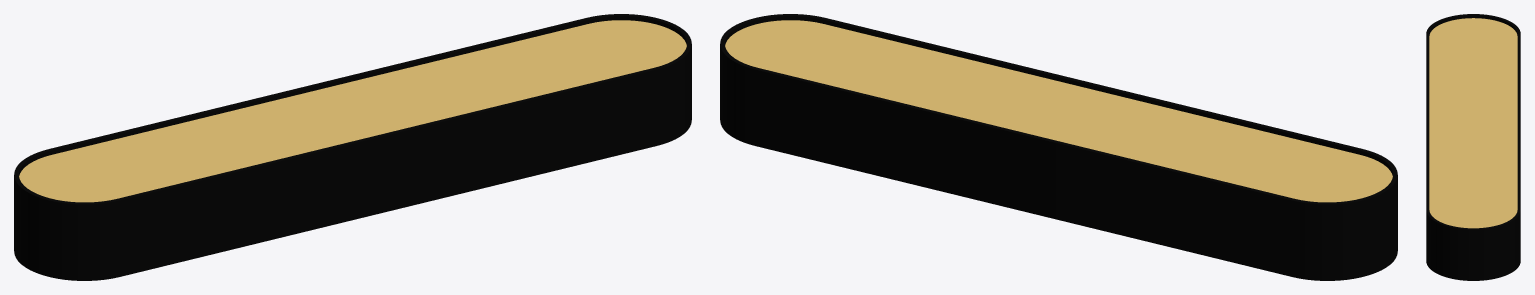
3 views of the same model, side by side, from view 1: azimuth 30°, elevation 25°; view 2: azimuth 150°, elevation 25°; view 3: azimuth 270°, elevation 25° (orthographic). The views are drawn at different scales.
Visible parts, largest first — view 1: body, gold_top; view 2: body, gold_top; view 3: gold_top, body.
Part boxes in pixels (box(x1,y1,x2,y2)): body: box(14, 14, 691, 280); gold_top: box(19, 20, 686, 202); body: box(720, 14, 1397, 280); gold_top: box(725, 20, 1392, 202); gold_top: box(1429, 18, 1517, 228); body: box(1426, 14, 1520, 280).
Bounding box in the file's own units: 0.2999 × 0.0333 × 0.0555.
